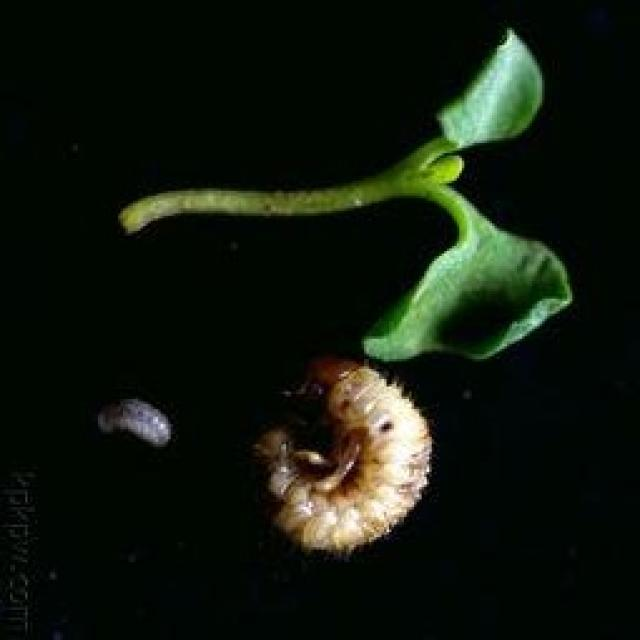grub: (245, 358, 446, 579)
